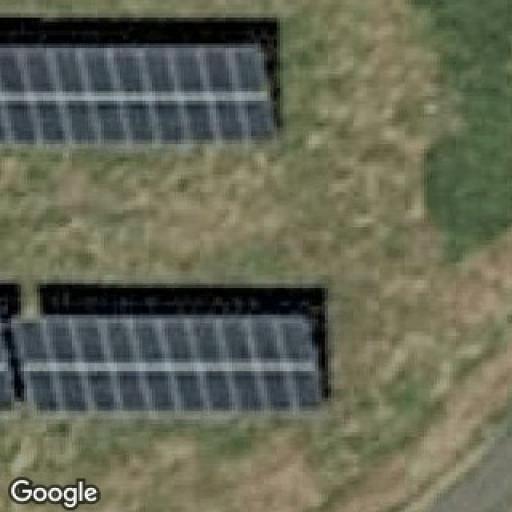solar-panel: (4, 314, 318, 414), (0, 43, 275, 141)
